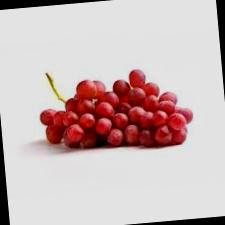Grape Rotten: (35, 60, 195, 157)
